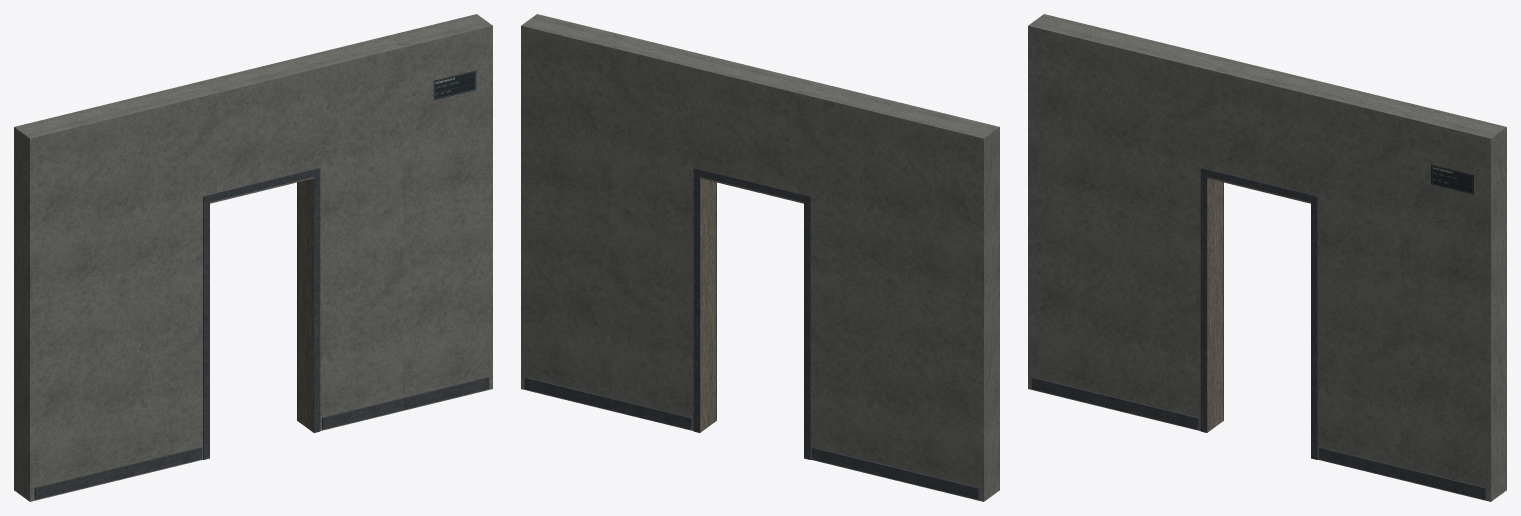
File: PROJECT_Z_Wall_4x3_Doorway_0p9x2p1.glb
3 views of the same model, side by side, from view 1: azimuth 30°, elevation 25°; view 2: azimuth 150°, elevation 25°; view 3: azimuth 330°, elevation 25° (orthographic).
Parts seen in each view (by area): view 1: SM_Wall_Doorway_StructuralCore, SM_Doorway_Right_RevealLiner, SM_Wall_Front_Left_BottomKickStrip, SM_Wall_Front_Right_BottomKickStrip, SM_Doorway_Front_RightEdgeTrim, SM_Doorway_Front_LeftEdgeTrim, SM_Doorway_Front_TopEdgeTrim, SM_Decal_NorthreachAssetIdentificationPlate; view 2: SM_Wall_Doorway_StructuralCore, SM_Doorway_Right_RevealLiner, SM_Wall_Back_Left_BottomKickStrip, SM_Wall_Back_Right_BottomKickStrip, SM_Doorway_Back_RightEdgeTrim, SM_Doorway_Back_LeftEdgeTrim, SM_Doorway_Back_TopEdgeTrim; view 3: SM_Wall_Doorway_StructuralCore, SM_Doorway_Left_RevealLiner, SM_Wall_Front_Left_BottomKickStrip, SM_Wall_Front_Right_BottomKickStrip, SM_Doorway_Front_LeftEdgeTrim, SM_Doorway_Front_RightEdgeTrim, SM_Doorway_Front_TopEdgeTrim, SM_Decal_NorthreachAssetIdentificationPlate.
Part boxes in pixels (x1=…): SM_Wall_Doorway_StructuralCore: x1=14, y1=14, x2=492, y2=501; SM_Doorway_Right_RevealLiner: x1=297, y1=178, x2=313, y2=432; SM_Wall_Front_Left_BottomKickStrip: x1=34, y1=447, x2=201, y2=499; SM_Wall_Front_Right_BottomKickStrip: x1=322, y1=377, x2=489, y2=429; SM_Doorway_Front_RightEdgeTrim: x1=313, y1=168, x2=320, y2=432; SM_Doorway_Front_LeftEdgeTrim: x1=203, y1=195, x2=209, y2=459; SM_Doorway_Front_TopEdgeTrim: x1=203, y1=168, x2=320, y2=203; SM_Decal_NorthreachAssetIdentificationPlate: x1=433, y1=70, x2=476, y2=99; SM_Wall_Doorway_StructuralCore: x1=521, y1=14, x2=999, y2=501; SM_Doorway_Right_RevealLiner: x1=700, y1=178, x2=716, y2=432; SM_Wall_Back_Left_BottomKickStrip: x1=812, y1=447, x2=979, y2=499; SM_Wall_Back_Right_BottomKickStrip: x1=524, y1=377, x2=691, y2=429; SM_Doorway_Back_RightEdgeTrim: x1=693, y1=168, x2=700, y2=432; SM_Doorway_Back_LeftEdgeTrim: x1=804, y1=195, x2=810, y2=459; SM_Doorway_Back_TopEdgeTrim: x1=693, y1=168, x2=810, y2=203; SM_Wall_Doorway_StructuralCore: x1=1028, y1=14, x2=1506, y2=501; SM_Doorway_Left_RevealLiner: x1=1207, y1=178, x2=1223, y2=432; SM_Wall_Front_Left_BottomKickStrip: x1=1031, y1=377, x2=1198, y2=429; SM_Wall_Front_Right_BottomKickStrip: x1=1319, y1=447, x2=1486, y2=499; SM_Doorway_Front_LeftEdgeTrim: x1=1200, y1=168, x2=1207, y2=432; SM_Doorway_Front_RightEdgeTrim: x1=1311, y1=195, x2=1317, y2=459; SM_Doorway_Front_TopEdgeTrim: x1=1201, y1=168, x2=1317, y2=203; SM_Decal_NorthreachAssetIdentificationPlate: x1=1431, y1=164, x2=1473, y2=194.
Bounding box in the file's own units: 4 × 3 × 0.268.
Materials: 4 (4 with a texture image).
